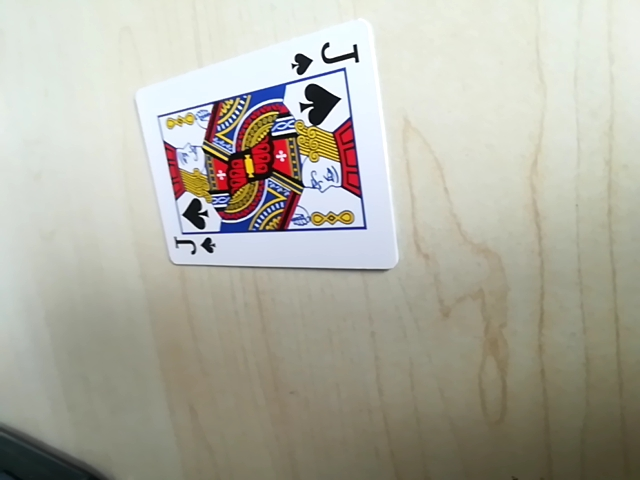ht j: (288, 36, 364, 79), (168, 229, 216, 262)
